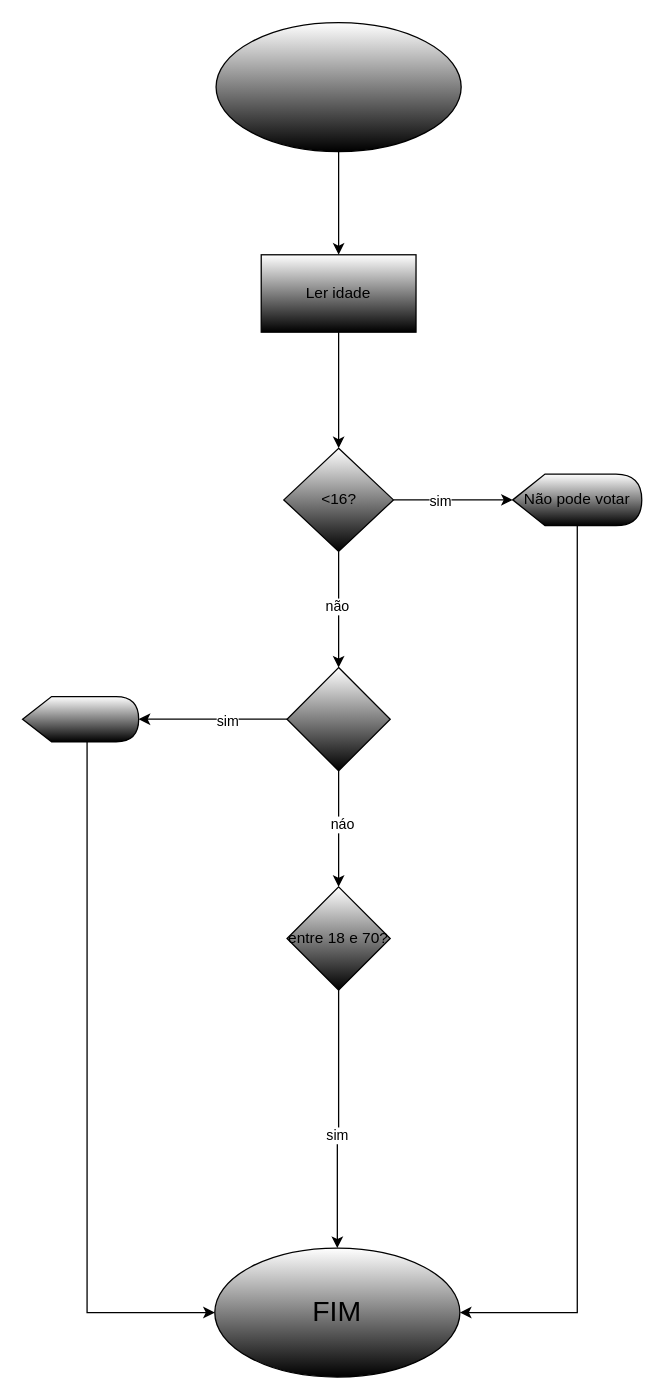
This 664x1400 diagram has some shape labels left out. Here are the shapes that lost their labels. From the top down, the centre of each, then its label:
the point at 338,86: INICIO
the point at 80,718: opcioal
the point at 338,718: =16/17 ou >70?
